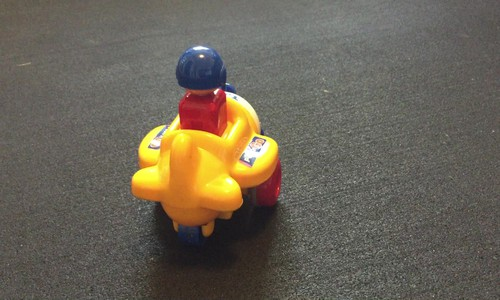toy: (137, 52, 285, 251)
